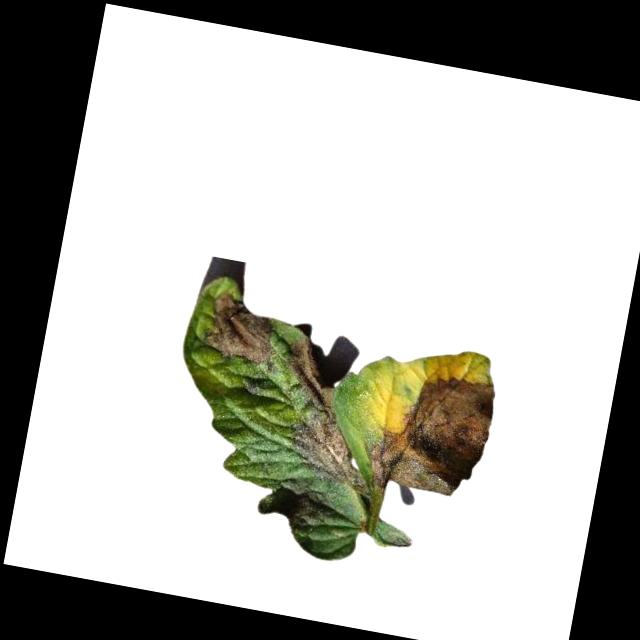Late_blight: (263, 333, 395, 499), (359, 361, 501, 507), (200, 288, 287, 369), (271, 477, 332, 530)
